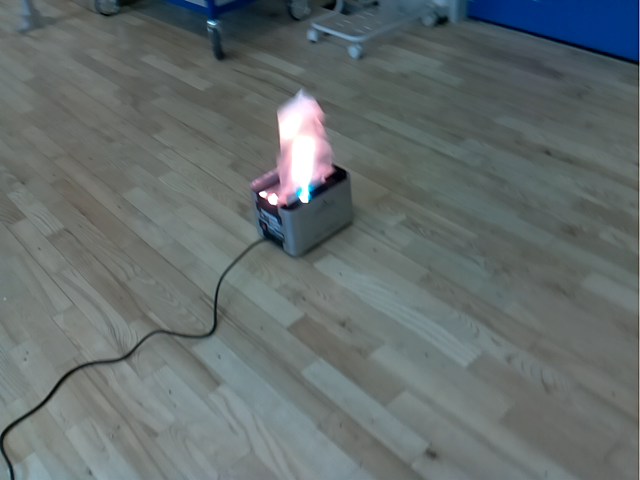fire: (277, 89, 335, 206)
